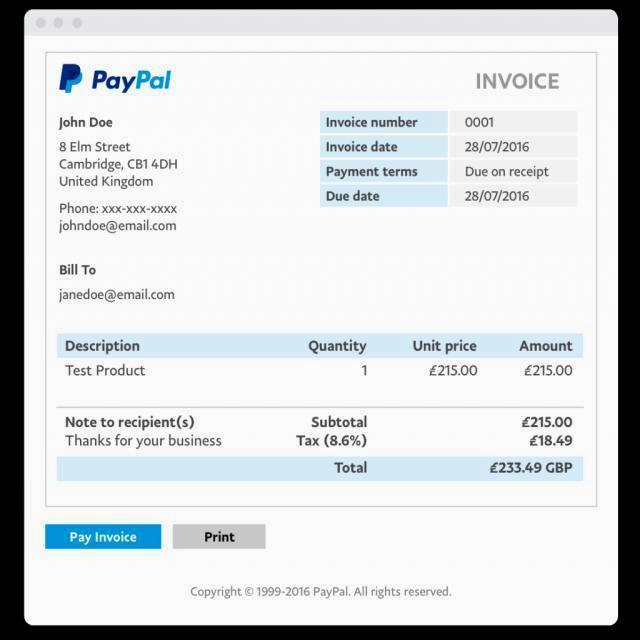ROI: (59, 408, 586, 482), (57, 336, 582, 388), (321, 112, 577, 209), (51, 111, 184, 236), (55, 256, 189, 310), (185, 579, 453, 606), (88, 61, 181, 98), (45, 520, 161, 547), (472, 69, 566, 94), (183, 526, 249, 547)
